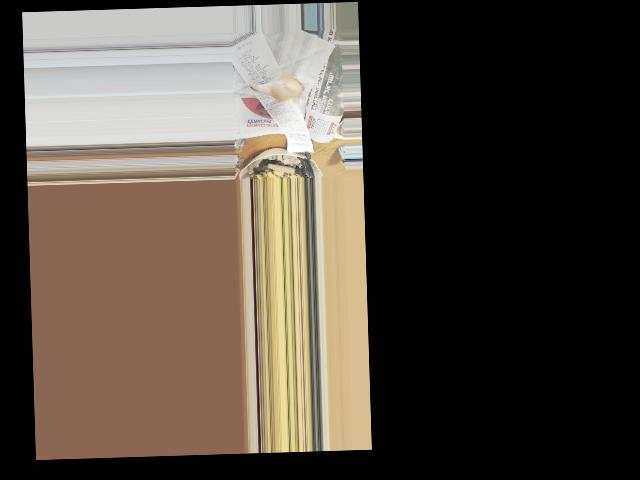onion: (265, 75, 301, 102)
